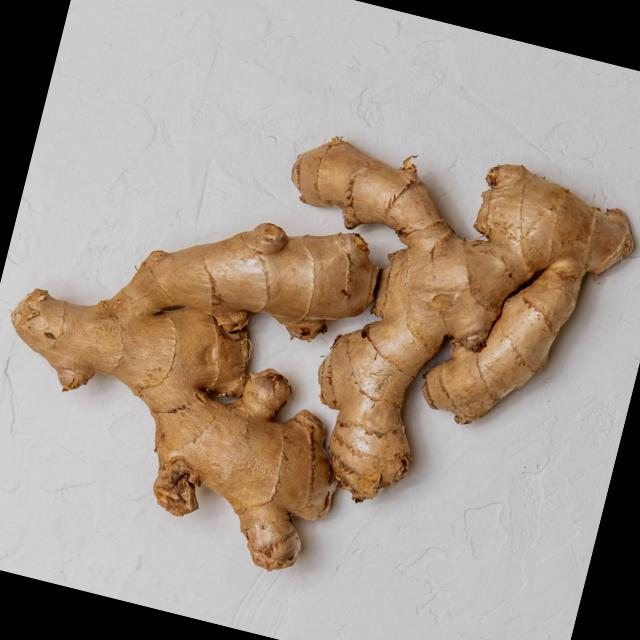ginger-root: (269, 120, 640, 560), (0, 201, 379, 599)
